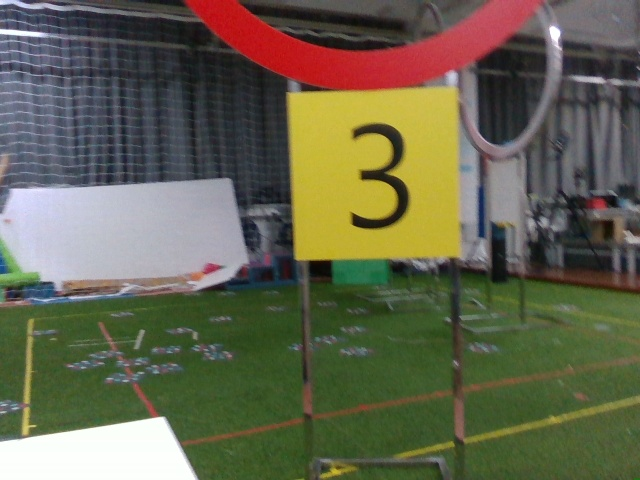target: (292, 88, 454, 258)
